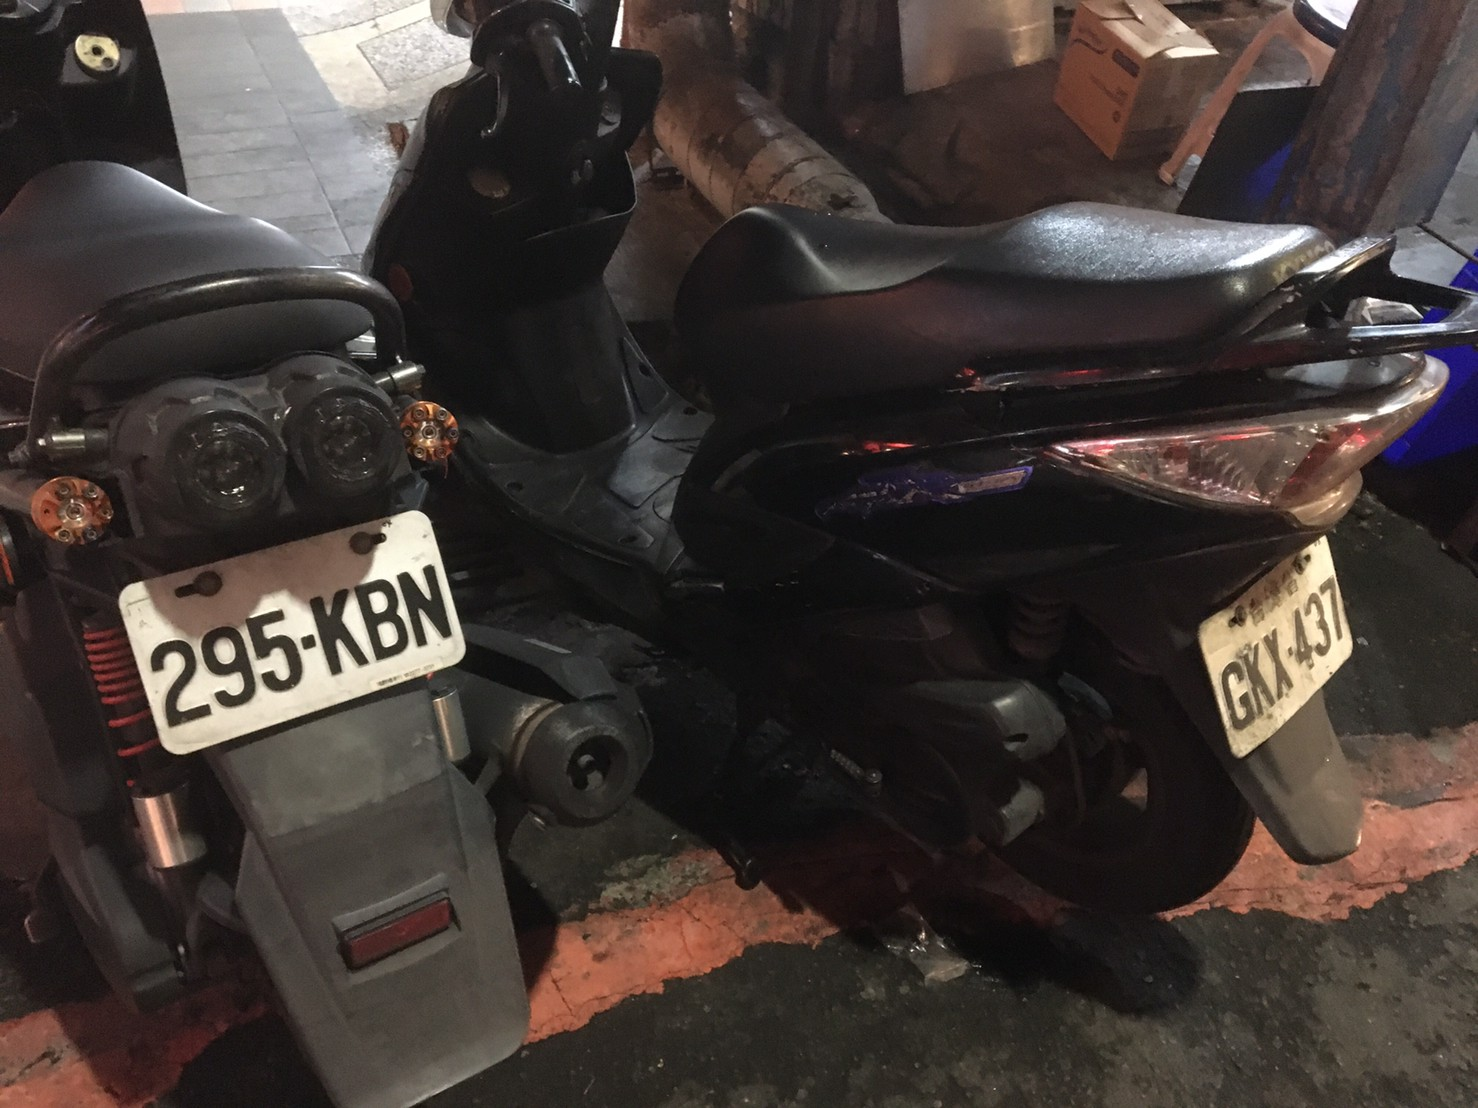LP: (138, 560, 457, 736), (1208, 544, 1350, 751)
